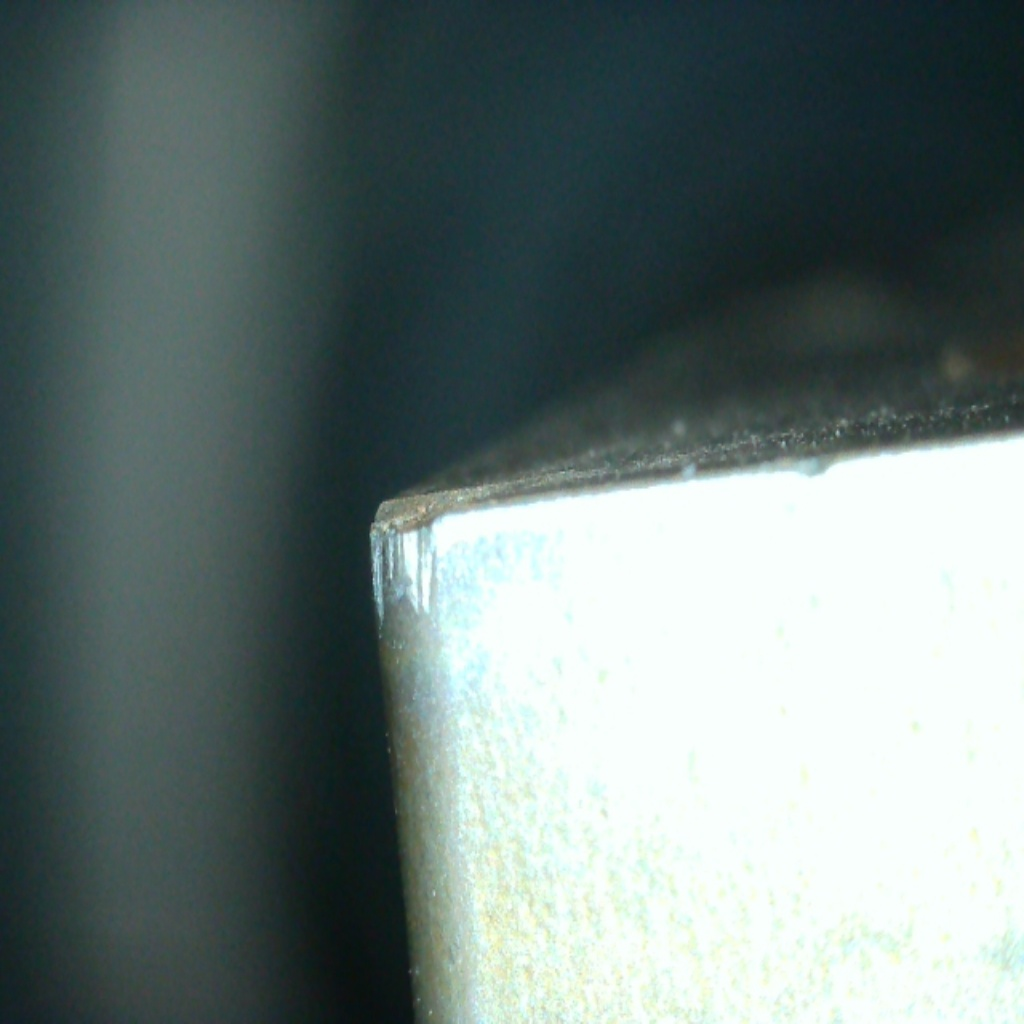flank_wear: (369, 517, 451, 629)
